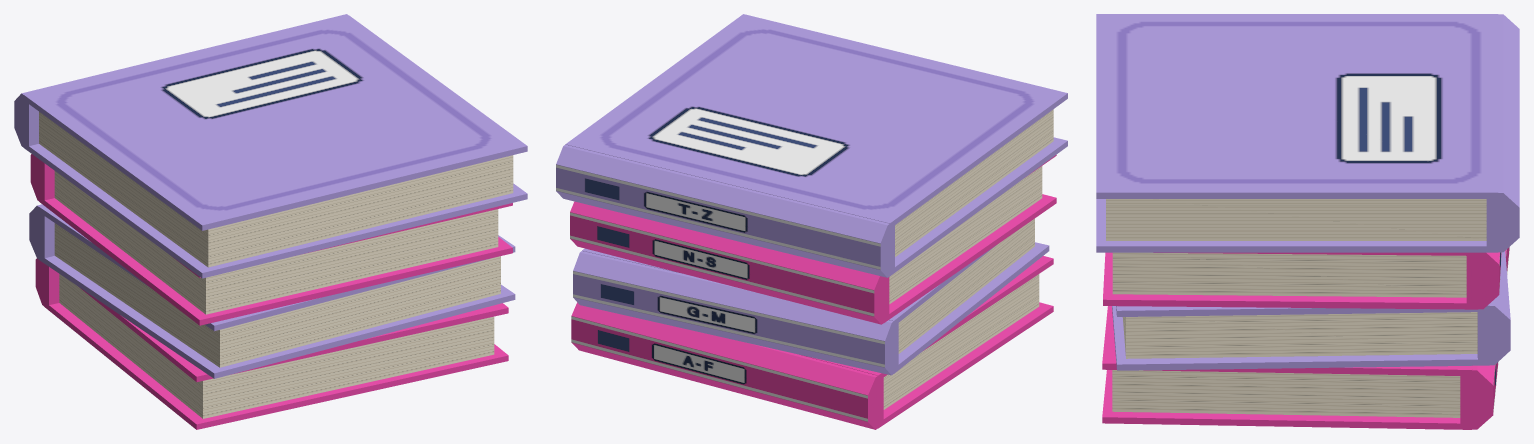
The model's file is bureau_binder_stack_lod1.glb.
3 views of the same model, side by side, from view 1: azimuth 30°, elevation 25°; view 2: azimuth 150°, elevation 25°; view 3: azimuth 270°, elevation 25° (orthographic). The views are drawn at different scales.
Parts seen in each view (by area): view 1: bureau_binder_stack_LOD1; view 2: bureau_binder_stack_LOD1; view 3: bureau_binder_stack_LOD1.
Part boxes in pixels (left/top/right/bottom): bureau_binder_stack_LOD1: left=14, top=14, right=527, bottom=429; bureau_binder_stack_LOD1: left=556, top=14, right=1067, bottom=429; bureau_binder_stack_LOD1: left=1096, top=14, right=1519, bottom=429.
Size of the model in its own units: 8 by 5 by 8.
Materials: 1 (1 with a texture image).
